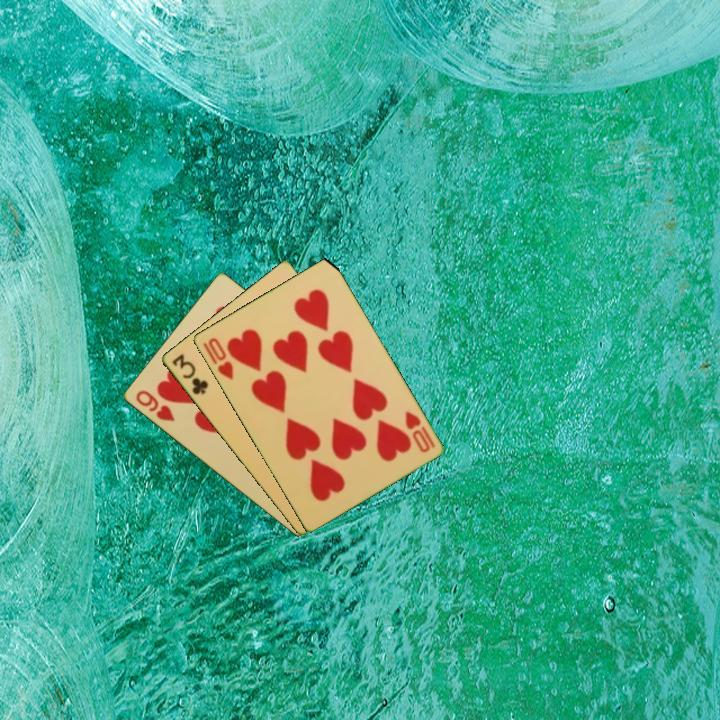10h: (199, 334, 236, 383), (401, 407, 438, 456)
3c: (168, 350, 211, 398)
9h: (132, 386, 177, 425)
